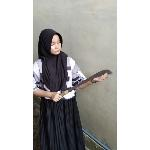Golok: (55, 66, 115, 100)
